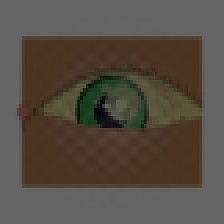corneal_ulcer: (95, 81, 150, 126)
